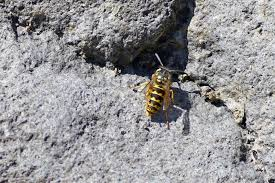chax: (137, 54, 185, 121)
